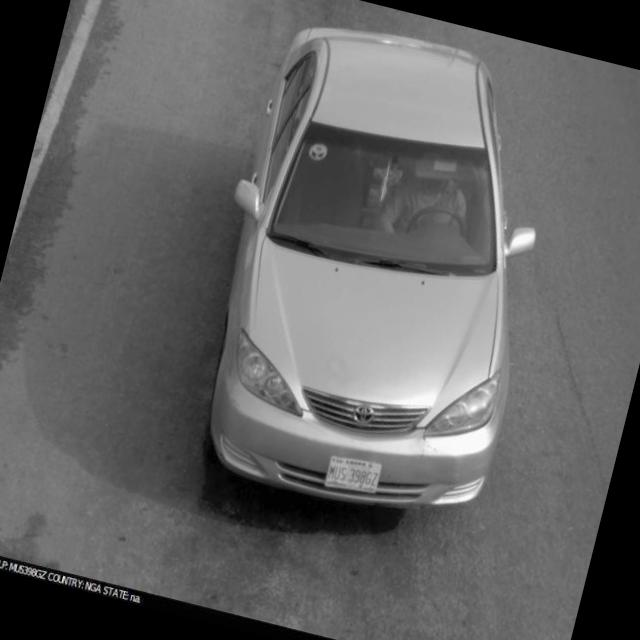person_with_seatbelt: (383, 141, 488, 261)
